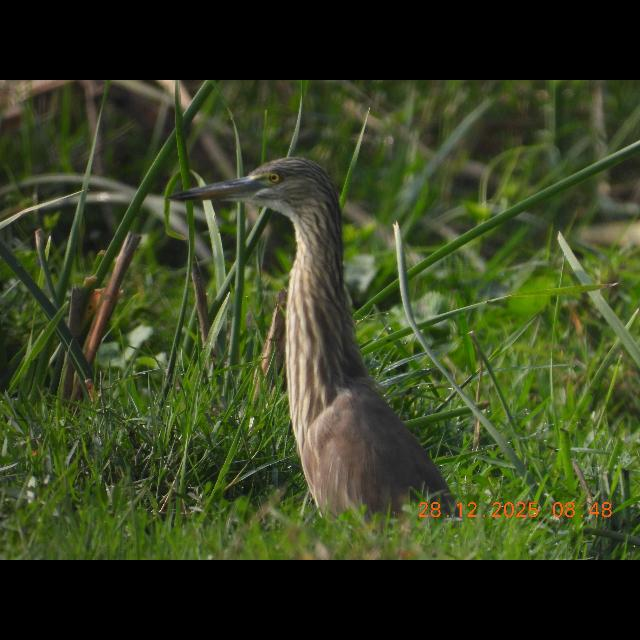heron: (161, 140, 499, 528)
